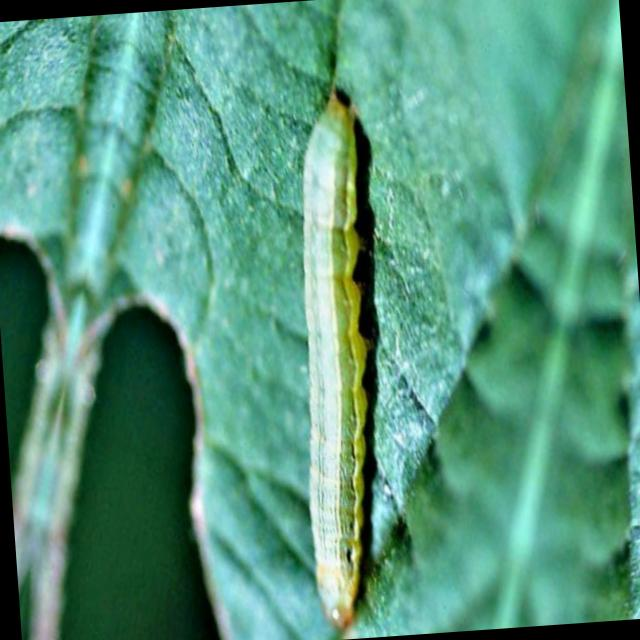Armyworm: (273, 56, 417, 640)
